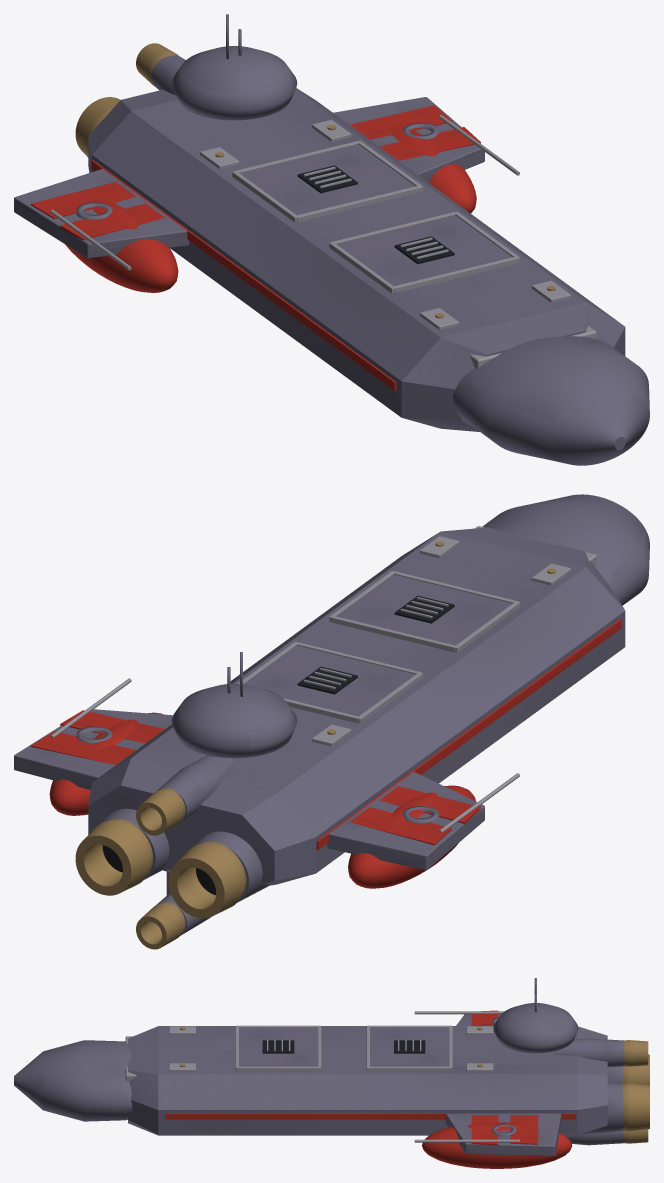
The picture shows the model from 3 angles, top to bottom: view 1: azimuth 30°, elevation 25°; view 2: azimuth 150°, elevation 25°; view 3: azimuth 270°, elevation 25°; orthographic projection. The views are drawn at different scales.
Parts seen in each view (by area): view 1: Command Cruiser continuous faceted hull, Command Cruiser rounded bow, Xradar circular sensor casing, Command Cruiser dorsal panel 0, Command Cruiser dorsal panel 1, Command Cruiser outrigger wing -1, Subwing communication pod -1, Command Cruiser outrigger wing 1, Command Cruiser red flank -1, Subwing communication pod 1, Command Cruiser red outrigger band -1 1, Command Cruiser red outrigger band 1 1 (+9 smaller); view 2: Command Cruiser continuous faceted hull, Command Cruiser rounded bow, Xradar circular sensor casing, Command Cruiser dorsal panel 0, Command Cruiser dorsal panel 1, Command Cruiser outrigger wing -1, Command Cruiser exhaust -1, Command Cruiser exhaust 1, Command Cruiser outrigger wing 1, Subwing communication pod -1, Command Cruiser red flank -1, Ancillary thruster 1 housing (+12 smaller); view 3: Command Cruiser continuous faceted hull, Command Cruiser rounded bow, Xradar circular sensor casing, Subwing communication pod 1, Command Cruiser dorsal panel 0, Command Cruiser dorsal panel 1, Command Cruiser outrigger wing 1, Command Cruiser red flank 1, Ancillary thruster 1 housing, Command Cruiser exhaust 1, Command Cruiser engine housing 1, Command Cruiser red outrigger band 1 1 (+12 smaller).
Part boxes in pixels (<box>): Command Cruiser continuous faceted hull: <box>88,88,625,431</box>; Command Cruiser rounded bow: <box>452,336,649,465</box>; Xradar circular sensor casing: <box>171,46,297,120</box>; Command Cruiser dorsal panel 0: <box>337,215,512,285</box>; Command Cruiser dorsal panel 1: <box>240,144,415,215</box>; Command Cruiser outrigger wing -1: <box>14,169,189,258</box>; Subwing communication pod -1: <box>65,198,178,292</box>; Command Cruiser outrigger wing 1: <box>333,97,484,182</box>; Command Cruiser red flank -1: <box>91,160,396,390</box>; Subwing communication pod 1: <box>391,125,476,213</box>; Command Cruiser red outrigger band -1 1: <box>30,182,136,219</box>; Command Cruiser red outrigger band 1 1: <box>350,105,451,139</box>; Command Cruiser continuous faceted hull: <box>88,527,625,885</box>; Command Cruiser rounded bow: <box>482,494,649,605</box>; Xradar circular sensor casing: <box>171,683,297,758</box>; Command Cruiser dorsal panel 0: <box>337,574,512,645</box>; Command Cruiser dorsal panel 1: <box>244,645,415,716</box>; Command Cruiser outrigger wing -1: <box>327,772,484,870</box>; Command Cruiser exhaust -1: <box>168,841,246,918</box>; Command Cruiser exhaust 1: <box>75,819,152,895</box>; Command Cruiser outrigger wing 1: <box>14,709,172,790</box>; Subwing communication pod -1: <box>348,785,475,888</box>; Command Cruiser red flank -1: <box>316,619,621,850</box>; Ancillary thruster 1 housing: <box>157,755,235,821</box>; Command Cruiser continuous faceted hull: <box>128,1026,607,1135</box>; Command Cruiser rounded bow: <box>14,1040,132,1121</box>; Xradar circular sensor casing: <box>493,1003,578,1053</box>; Subwing communication pod 1: <box>422,1122,572,1168</box>; Command Cruiser dorsal panel 0: <box>239,1028,318,1066</box>; Command Cruiser dorsal panel 1: <box>370,1028,449,1066</box>; Command Cruiser outrigger wing 1: <box>445,1113,561,1156</box>; Command Cruiser red flank 1: <box>165,1113,575,1119</box>; Ancillary thruster 1 housing: <box>554,1038,624,1067</box>; Command Cruiser exhaust 1: <box>622,1083,649,1131</box>; Command Cruiser engine housing 1: <box>582,1082,623,1134</box>; Command Cruiser red outrigger band 1 1: <box>510,1115,538,1144</box>.
Bounding box in the file's own units: 2.66 × 1.48 × 5.24.
6 materials, 3 textured.
